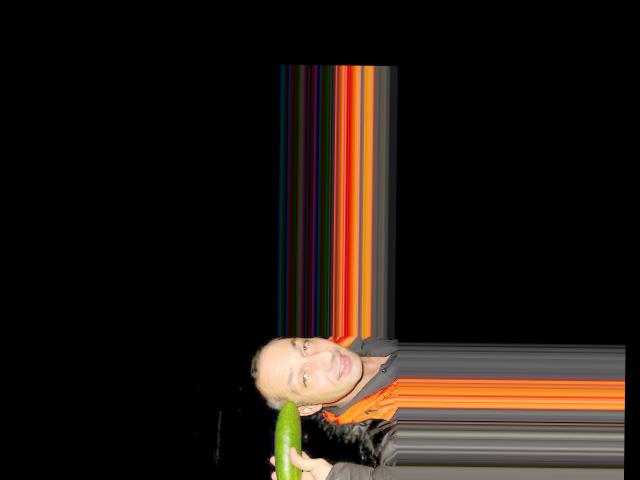cucumber: (274, 400, 302, 480)
